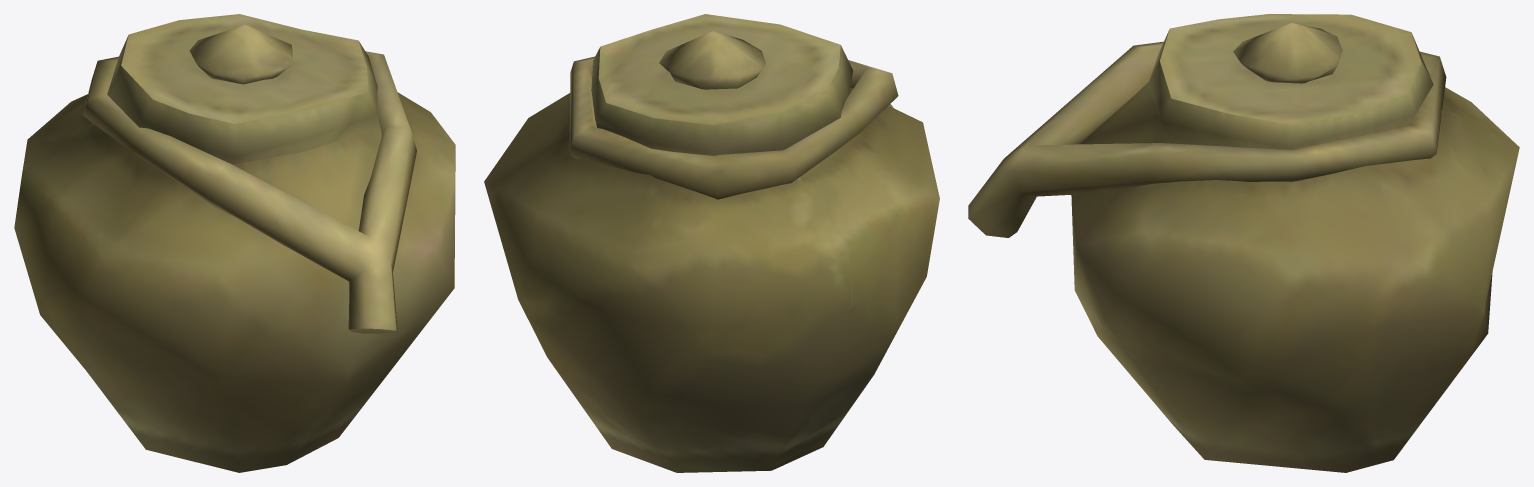
File: Homeworld_Ani_Exterior_Common_Decoration_Prop_WoodAranaraStage_Jar_02_Vo.fbx
3 views of the same model, side by side, from view 1: azimuth 30°, elevation 25°; view 2: azimuth 150°, elevation 25°; view 3: azimuth 270°, elevation 25° (orthographic). The views are drawn at different scales.
Visible parts, largest first — view 1: Homeworld_Ani_Exterior_Common_Decoration_Prop_WoodAranaraSta; view 2: Homeworld_Ani_Exterior_Common_Decoration_Prop_WoodAranaraSta; view 3: Homeworld_Ani_Exterior_Common_Decoration_Prop_WoodAranaraSta.
Part boxes in pixels (left/top/right/bottom): Homeworld_Ani_Exterior_Common_Decoration_Prop_WoodAranaraSta: left=14, top=14, right=455, bottom=472; Homeworld_Ani_Exterior_Common_Decoration_Prop_WoodAranaraSta: left=484, top=14, right=939, bottom=472; Homeworld_Ani_Exterior_Common_Decoration_Prop_WoodAranaraSta: left=968, top=14, right=1519, bottom=472.
Size of the model in its own units: 0.3318 by 0.3313 by 0.403.
